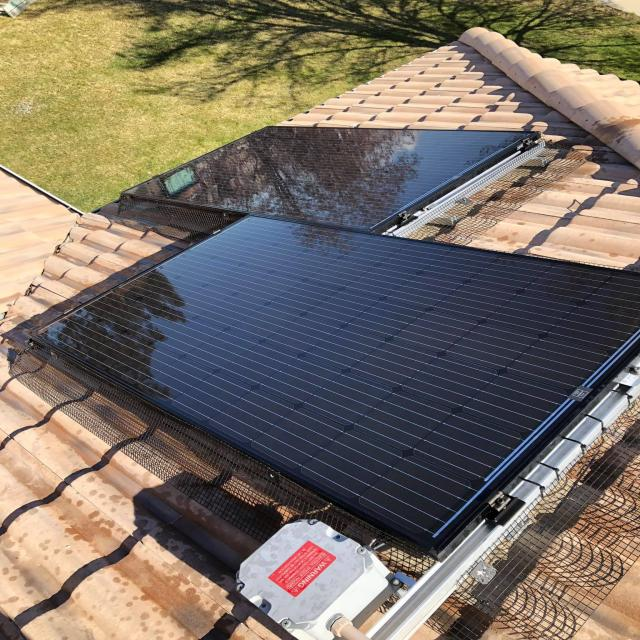clean-solar-panel: (37, 218, 638, 551), (122, 126, 538, 232)
